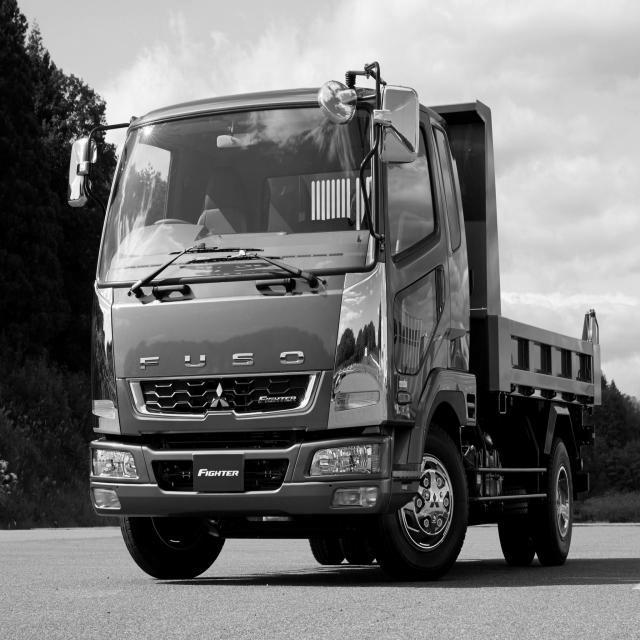truck: (58, 54, 522, 582)
